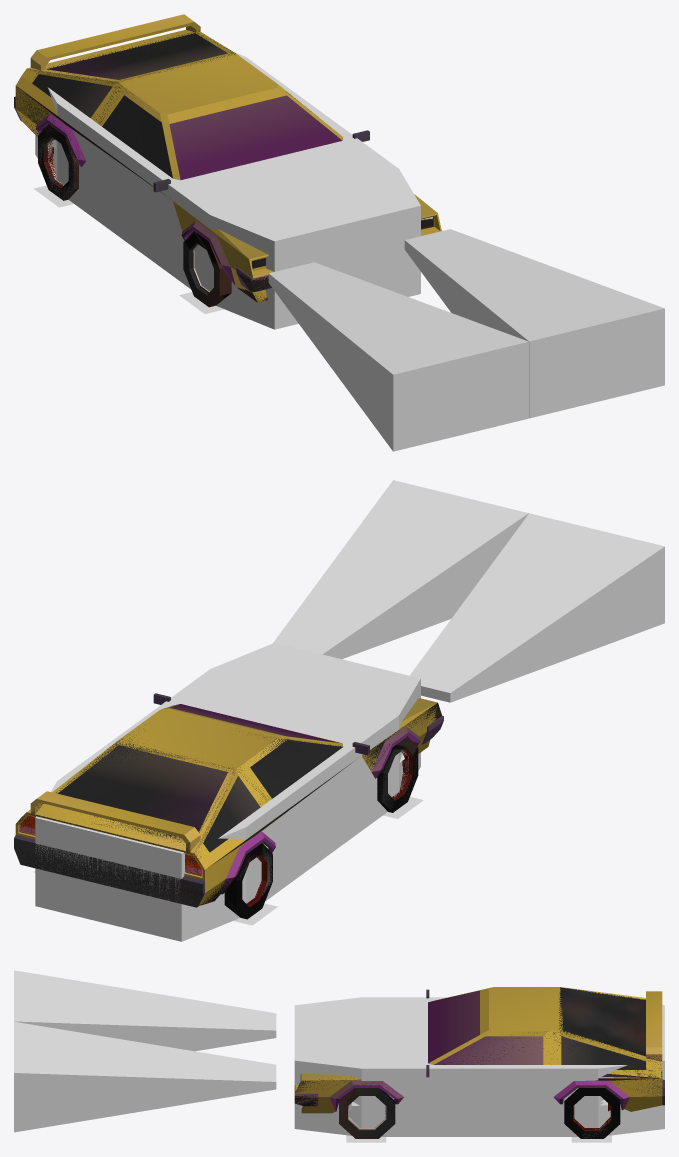
The model's file is Kronos.fbx.
The picture shows the model from 3 angles, top to bottom: view 1: azimuth 30°, elevation 25°; view 2: azimuth 150°, elevation 25°; view 3: azimuth 270°, elevation 25°; orthographic projection. The views are drawn at different scales.
Parts seen in each view (by area): view 1: kronos_gr, kronos_cldr, kronos, kronos_dead, kronos_lckd, kronos_frontwheels, kronos_rearwheels, TireSmokeMesh; view 2: kronos_gr, kronos_cldr, kronos, kronos_dead, kronos_lckd, kronos_frontwheels; view 3: kronos_gr, kronos_cldr, kronos, kronos_dead, kronos_lckd, kronos_frontwheels, TireSmokeMesh.
Part boxes in pixels (box(x1,y1,x2,y2)): kronos_gr: box(268, 229, 664, 451); kronos_cldr: box(35, 31, 420, 329); kronos: box(14, 14, 441, 302); kronos_dead: box(16, 26, 433, 302); kronos_lckd: box(38, 125, 432, 302); kronos_frontwheels: box(183, 231, 231, 307); kronos_rearwheels: box(38, 124, 78, 200); TireSmokeMesh: box(34, 185, 223, 313); kronos_gr: box(273, 480, 664, 702); kronos_cldr: box(35, 643, 420, 941); kronos: box(14, 693, 443, 907); kronos_dead: box(15, 703, 441, 906); kronos_lckd: box(224, 736, 418, 919); kronos_frontwheels: box(377, 736, 418, 811); kronos_gr: box(14, 970, 276, 1132); kronos_cldr: box(294, 997, 664, 1136); kronos: box(294, 987, 664, 1113); kronos_dead: box(294, 987, 662, 1106); kronos_lckd: box(304, 1088, 620, 1138); kronos_frontwheels: box(339, 1088, 395, 1138); TireSmokeMesh: box(346, 1135, 611, 1142).
Size of the model in its own units: 5.09 by 2.13 by 13.64.
